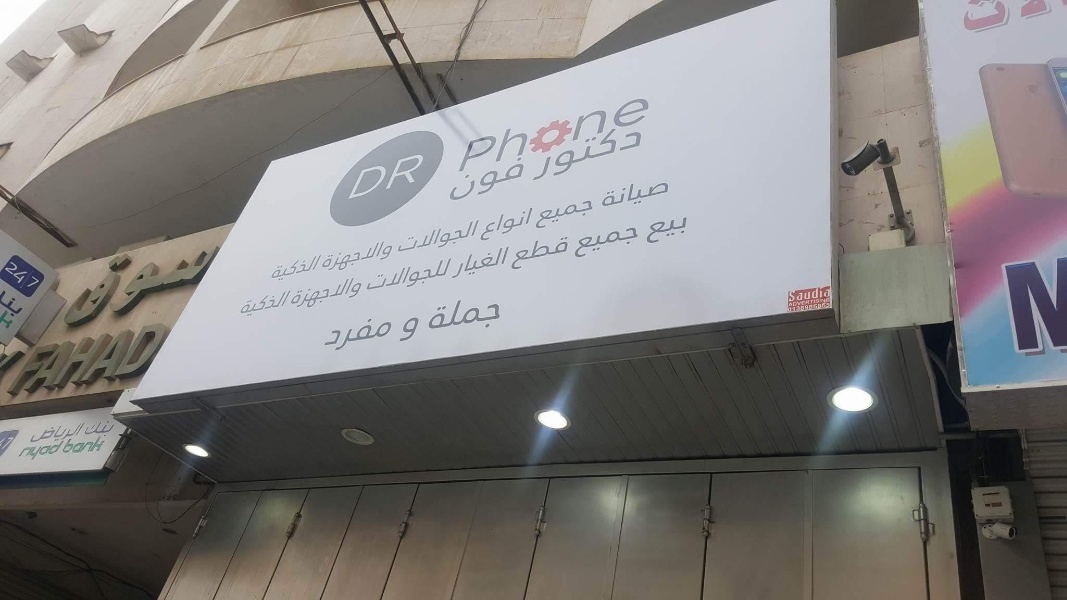text: (1009, 254, 1024, 362), (1025, 254, 1040, 362), (1041, 254, 1056, 362), (97, 240, 112, 331), (113, 240, 128, 331), (129, 240, 144, 331), (145, 240, 160, 331), (161, 240, 176, 331), (177, 240, 192, 331), (193, 240, 208, 331), (209, 240, 224, 331), (49, 319, 64, 399), (65, 319, 80, 399), (81, 319, 96, 399), (97, 319, 112, 399), (113, 319, 128, 399), (129, 319, 144, 399), (145, 319, 160, 399), (34, 319, 48, 399), (85, 240, 96, 331), (999, 254, 1008, 362), (161, 319, 173, 399), (545, 120, 560, 183), (561, 120, 576, 183), (577, 120, 592, 183), (593, 120, 608, 183), (609, 120, 624, 183), (625, 120, 640, 183), (1057, 254, 1065, 362), (481, 121, 496, 172), (497, 121, 512, 172), (513, 121, 528, 172), (369, 151, 384, 201), (385, 151, 400, 201), (401, 151, 416, 201), (449, 156, 464, 203), (465, 156, 480, 203), (481, 156, 496, 203), (497, 156, 512, 203), (593, 96, 608, 142), (609, 96, 624, 142), (625, 96, 640, 142), (467, 121, 480, 172), (513, 156, 527, 203), (433, 294, 448, 337), (449, 294, 464, 337), (465, 294, 480, 337), (481, 294, 496, 337), (337, 312, 352, 355), (353, 312, 368, 355), (369, 312, 384, 355), (2, 288, 16, 333), (465, 218, 481, 257), (961, 1, 976, 42), (977, 1, 992, 42), (993, 1, 1008, 42), (1009, 1, 1024, 42), (1025, 1, 1040, 42), (1041, 1, 1056, 42), (579, 96, 592, 142), (401, 218, 416, 257), (417, 218, 432, 257), (433, 218, 448, 257), (449, 218, 464, 257), (369, 258, 384, 297), (385, 258, 400, 297), (401, 258, 416, 297), (417, 258, 432, 297), (433, 258, 448, 297), (609, 177, 624, 215), (625, 177, 640, 215), (641, 177, 656, 215), (657, 177, 672, 215), (497, 205, 512, 243), (513, 205, 528, 243), (529, 234, 544, 272), (545, 234, 560, 272), (323, 312, 336, 355), (305, 276, 320, 313), (321, 276, 336, 313), (337, 276, 352, 313), (17, 288, 29, 333), (545, 196, 560, 231), (561, 196, 576, 231), (577, 196, 592, 231), (337, 239, 352, 274), (353, 239, 368, 274), (369, 239, 384, 274), (465, 246, 480, 281), (481, 246, 496, 281), (417, 151, 427, 201), (577, 226, 592, 259), (593, 226, 608, 259), (609, 226, 624, 259), (625, 226, 640, 259), (17, 258, 32, 291), (497, 246, 511, 281), (673, 216, 689, 246), (484, 205, 496, 243), (657, 216, 672, 246), (289, 256, 304, 285), (305, 256, 320, 285), (241, 290, 256, 319), (257, 290, 272, 319), (273, 290, 288, 319), (642, 216, 656, 246), (517, 234, 528, 272), (641, 96, 650, 142), (353, 276, 364, 313), (325, 239, 336, 274), (401, 318, 416, 343), (361, 151, 368, 201), (49, 421, 64, 444), (65, 421, 80, 444), (33, 439, 48, 462), (49, 439, 64, 462), (385, 312, 393, 355), (277, 256, 288, 285), (385, 239, 394, 274), (561, 234, 569, 272), (35, 421, 48, 444), (81, 436, 96, 455), (21, 271, 32, 295), (33, 271, 44, 295), (297, 276, 304, 313), (97, 420, 112, 437), (67, 436, 80, 455), (801, 287, 816, 303), (529, 205, 535, 243), (427, 294, 432, 337), (497, 294, 502, 337), (538, 196, 544, 231), (458, 246, 464, 281), (97, 436, 108, 455), (817, 287, 830, 303), (23, 439, 32, 462), (10, 258, 16, 291), (449, 258, 454, 297), (603, 177, 608, 215), (541, 120, 544, 183), (225, 240, 227, 331), (789, 287, 800, 303), (801, 302, 816, 313), (1057, 1, 1061, 42), (81, 421, 88, 444), (817, 302, 831, 313), (529, 121, 532, 172), (801, 297, 816, 307), (445, 156, 448, 203), (788, 302, 800, 313), (817, 297, 830, 307), (641, 120, 643, 183), (957, 1, 960, 42), (789, 297, 800, 307), (90, 420, 96, 437), (113, 420, 119, 437), (417, 318, 421, 343), (65, 439, 69, 462), (289, 290, 292, 319), (673, 177, 675, 215), (593, 196, 595, 231), (33, 258, 35, 291), (575, 226, 576, 259), (321, 256, 322, 285)
